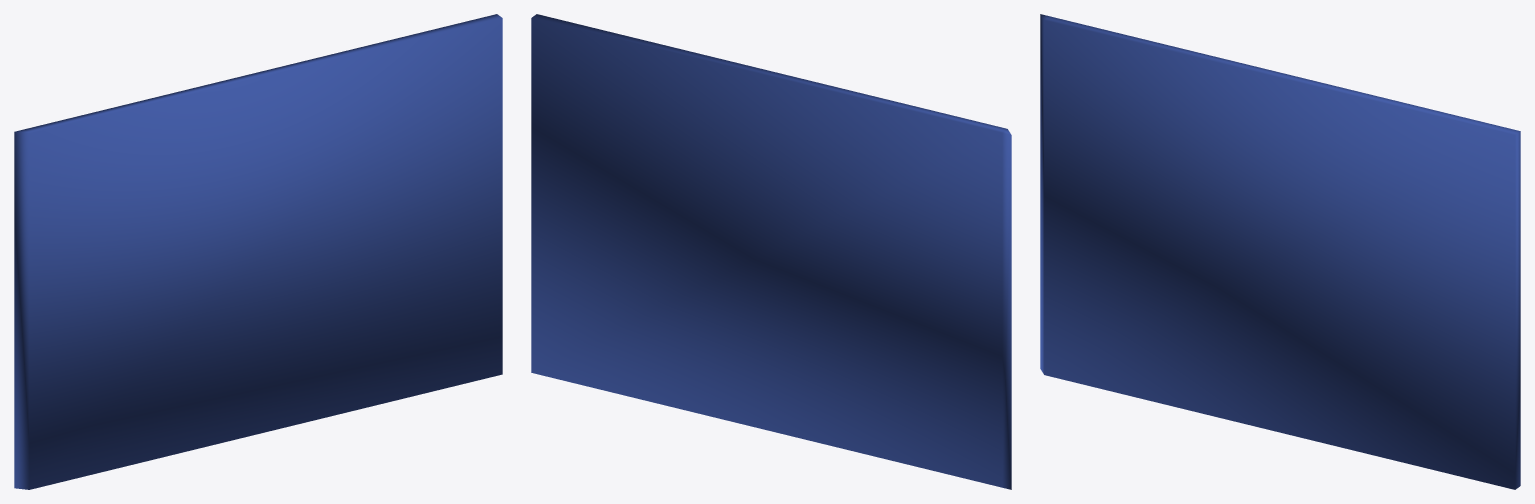
The model's file is back.obj.
3 renders of one model, left to right at view 1: azimuth 30°, elevation 25°; view 2: azimuth 150°, elevation 25°; view 3: azimuth 330°, elevation 25°, orthographic.
Visible parts, largest first — view 1: obj_0.001; view 2: obj_0.001; view 3: obj_0.001.
Boxes of the visible parts, x1,y1,x2,y2 form: obj_0.001: (14,14,502,489); obj_0.001: (531,14,1011,489); obj_0.001: (1040,14,1520,489).
Size of the model in its own units: 51 by 36 by 1.
